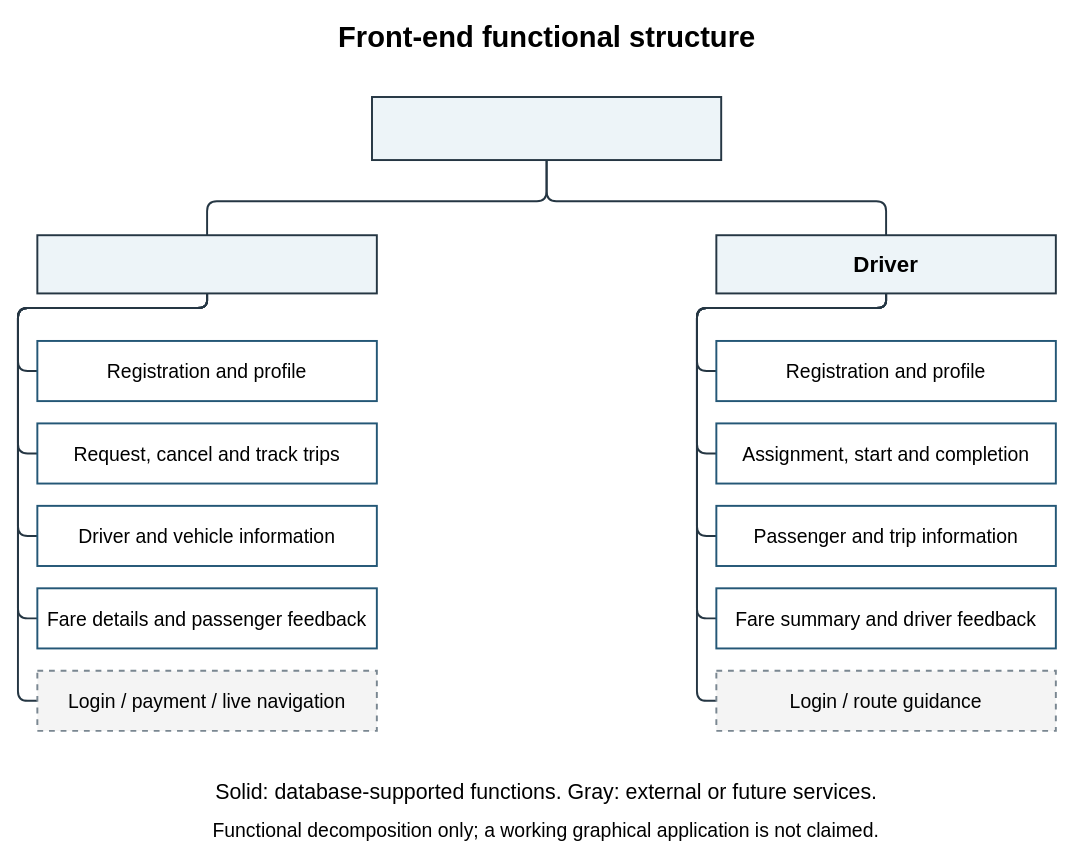
Some shapes in this 1073 by 859 pixel diagram are drawn without their labels. The box of each missing label's shape, as (x1, y1, x2, y2) in pixels:
Passenger: (36, 234, 377, 294)
User-facing services: (371, 96, 722, 161)
